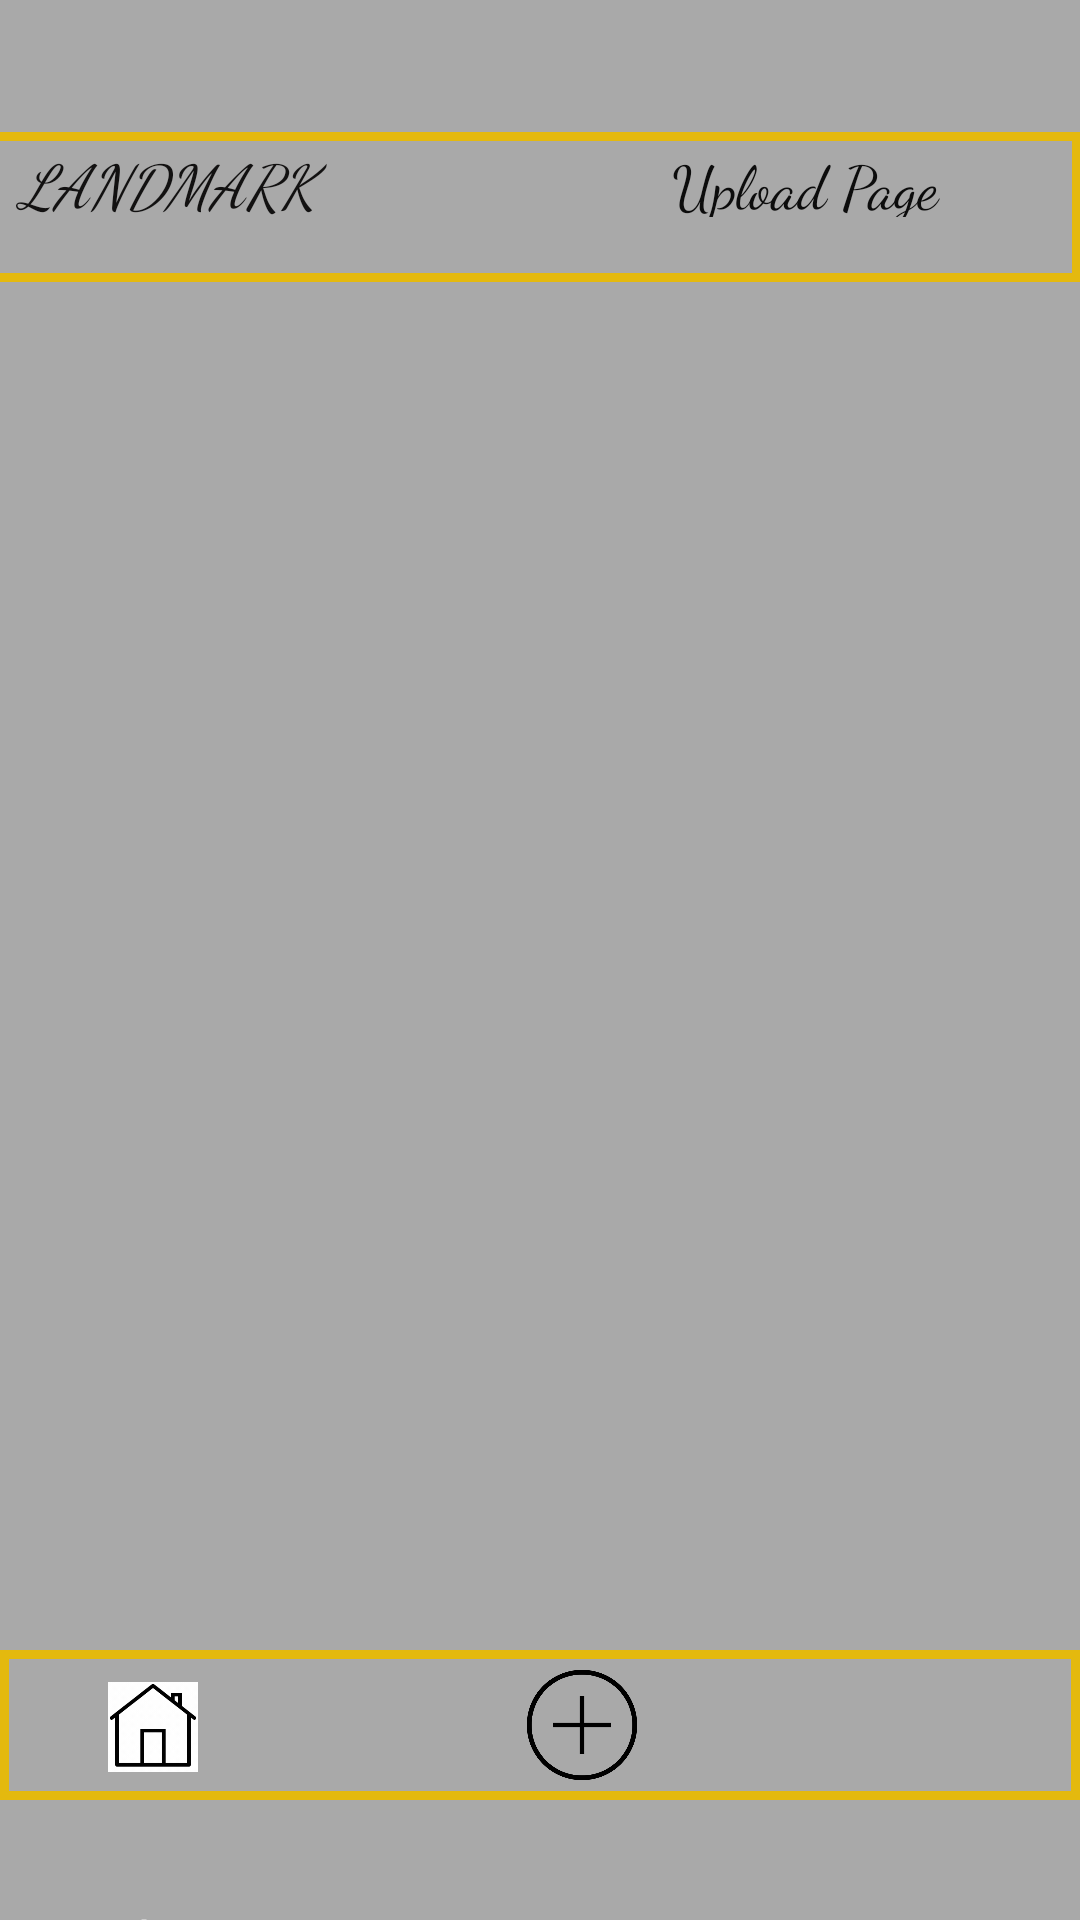

Icon click points for this 1080w x 1920h phone screenshot, format (x=x, y=y):
home: (x=153, y=1727)
plus: (x=582, y=1725)
